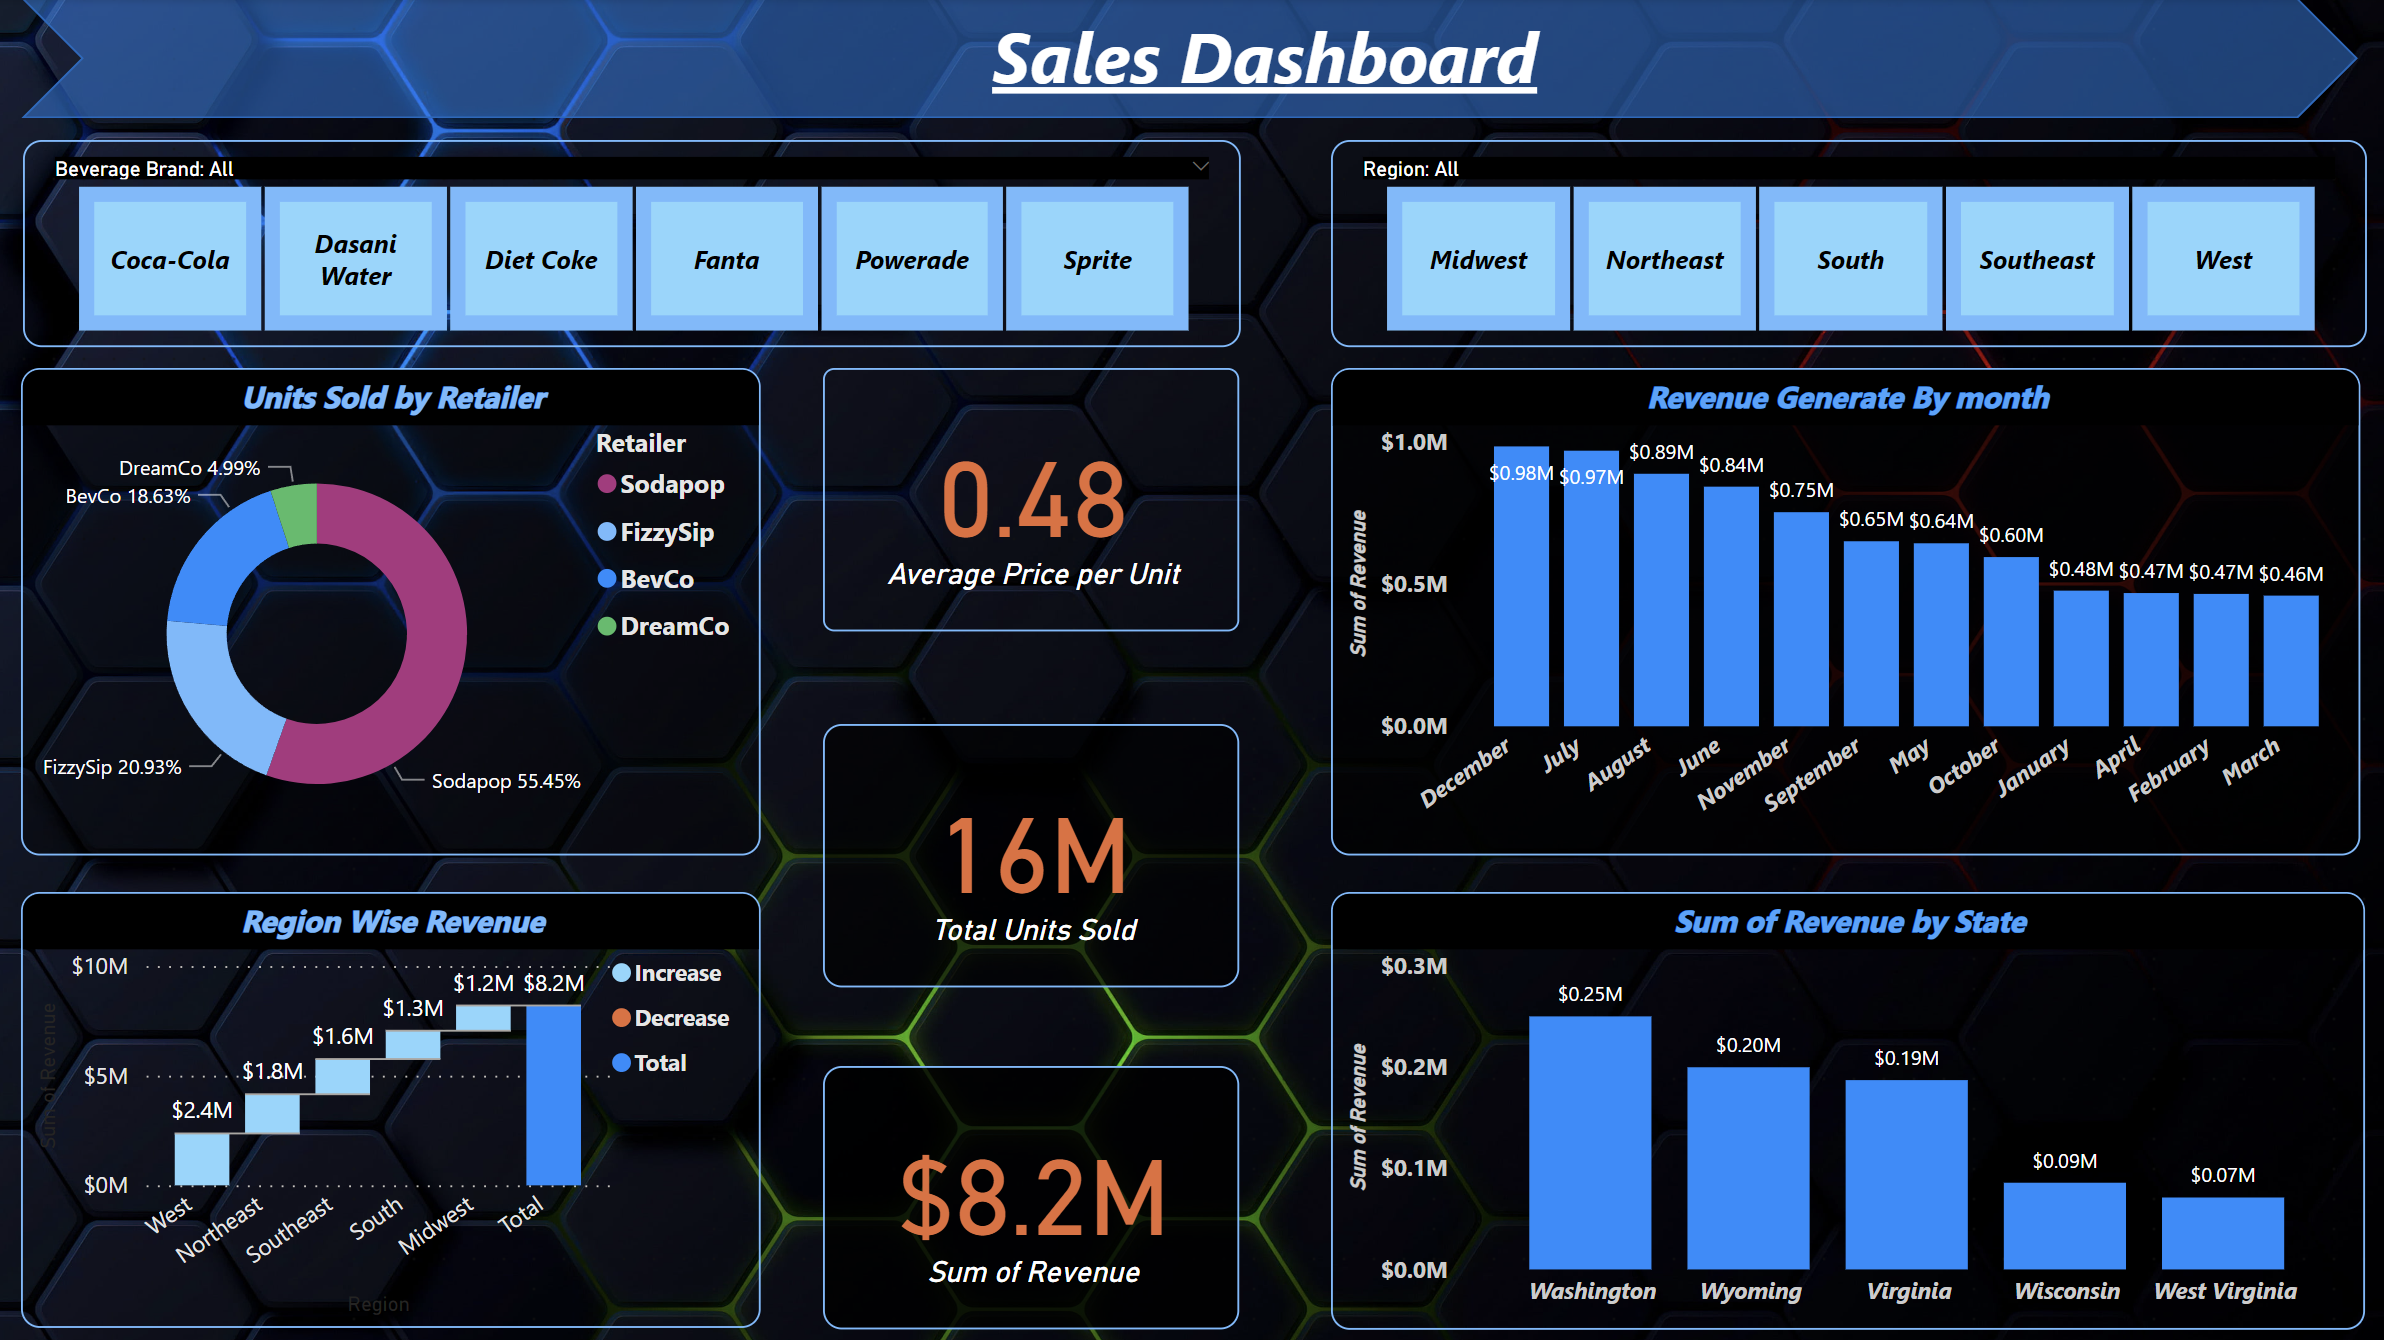

Layout of this report page (visuals, bound fields, positions):
{"tool":"powerbi","page":{"name":"Beverage Sales","canvas":[1280,720],"ordinal":0},"visuals":[{"type":"columnChart","title":"Revenue Generate By month","fields":{"Y":["Sum(Sheet1.Revenue)"],"Category":["Sheet1.Month Name"]},"box":[735.6,197.3,526.1,260],"z":0},{"type":"donutChart","title":"Units Sold by Retailer","fields":{"Y":["Sum(Sheet1.Units Sold)"],"Category":["Sheet1.Retailer"]},"box":[15.3,197.3,394.6,260],"z":1000},{"type":"card","fields":{"Values":["Sum(Sheet1.Revenue)"]},"box":[455.7,568.9,221.7,140.7],"z":2000},{"type":"card","fields":{"Values":["Sum(Sheet1.Units Sold)"]},"box":[455.7,386.9,221.7,140.7],"z":3000},{"type":"columnChart","fields":{"Category":["Sheet1.State"],"Y":["Sum(Sheet1.Revenue)"]},"box":[735.6,477.1,529.1,232.4],"z":4000},{"type":"card","fields":{"Values":["Avg(Sheet1.Price per Unit)"]},"box":[455.7,197.3,221.7,140.7],"z":5000},{"type":"slicer","fields":{"Values":["Sheet1.Region"]},"box":[737.1,76.5,527.6,110.1],"z":6000},{"type":"waterfallChart","title":"Region Wise Revenue","fields":{"Category":["Sheet1.Region"],"Y":["Sum(Sheet1.Revenue)"]},"box":[15.3,477.1,394.6,232.4],"z":7000},{"type":"slicer","fields":{"Values":["Sheet1.Beverage Brand"]},"box":[15.3,76.5,662.2,110.1],"z":8000},{"type":"shape","box":[15.3,0,1246.4,64.2],"z":9000},{"type":"textbox","box":[518.4,0,319.6,64.2],"z":10000}]}

Visuals, with their boxes in screenshot pixels (x1, y1, x2, y2), scaled from the page's 1280x720 canvas onto the 2384x1340 screenshot:
"Revenue Generate By month" columnChart: (left=1370, top=367, right=2350, bottom=851)
"Units Sold by Retailer" donutChart: (left=28, top=367, right=763, bottom=851)
card - Sum(Sheet1.Revenue): (left=849, top=1059, right=1262, bottom=1321)
card - Sum(Sheet1.Units Sold): (left=849, top=720, right=1262, bottom=982)
columnChart - Sheet1.State x Sum(Sheet1.Revenue): (left=1370, top=888, right=2356, bottom=1320)
card - Avg(Sheet1.Price per Unit): (left=849, top=367, right=1262, bottom=629)
slicer - Sheet1.Region: (left=1373, top=142, right=2356, bottom=347)
"Region Wise Revenue" waterfallChart: (left=28, top=888, right=763, bottom=1320)
slicer - Sheet1.Beverage Brand: (left=28, top=142, right=1262, bottom=347)
shape: (left=28, top=0, right=2350, bottom=119)
textbox: (left=966, top=0, right=1561, bottom=119)
